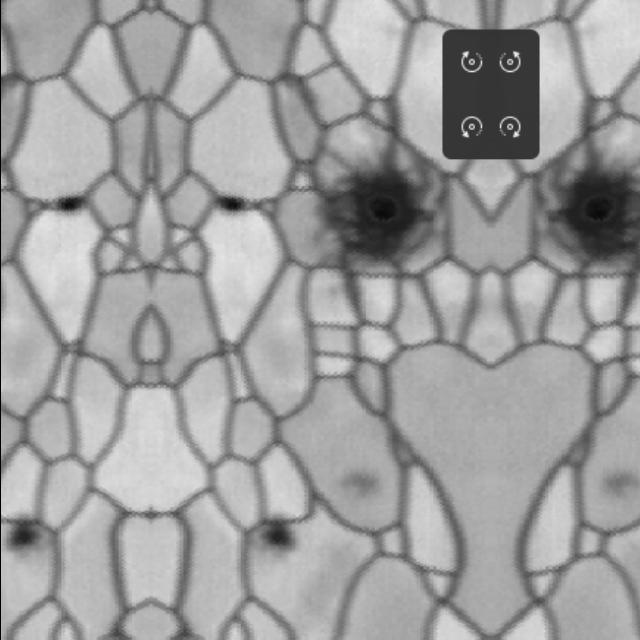good_void: (288, 128, 455, 295), (544, 151, 640, 273), (325, 451, 392, 520), (244, 505, 303, 569), (0, 502, 51, 565), (34, 188, 90, 217), (208, 191, 262, 217)
